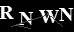N: (18, 11, 34, 26), (58, 7, 74, 22)
R: (1, 5, 14, 20)
W: (37, 9, 60, 23)
